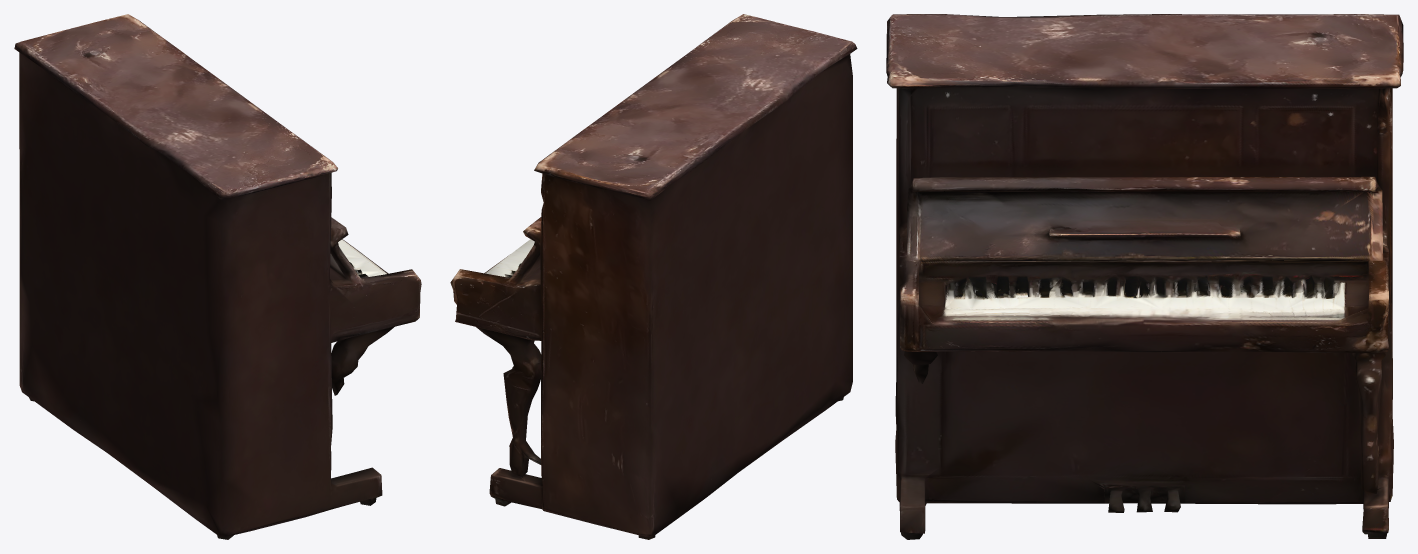
File: sn_piano.glb
3 views of the same model, side by side, from view 1: azimuth 30°, elevation 25°; view 2: azimuth 150°, elevation 25°; view 3: azimuth 270°, elevation 25° (orthographic). The views are drawn at different scales.
Parts seen in each view (by area): view 1: tripo_node_6ed25ce2-c212-450b-a8b7-edd220aa22f0; view 2: tripo_node_6ed25ce2-c212-450b-a8b7-edd220aa22f0; view 3: tripo_node_6ed25ce2-c212-450b-a8b7-edd220aa22f0.
Part boxes in pixels (bbox=[...]): tripo_node_6ed25ce2-c212-450b-a8b7-edd220aa22f0: bbox=[14, 14, 421, 539]; tripo_node_6ed25ce2-c212-450b-a8b7-edd220aa22f0: bbox=[450, 14, 857, 539]; tripo_node_6ed25ce2-c212-450b-a8b7-edd220aa22f0: bbox=[886, 14, 1403, 539].
Size of the model in its own units: 0.5652 by 0.9246 by 1.
1 material, 1 textured.
